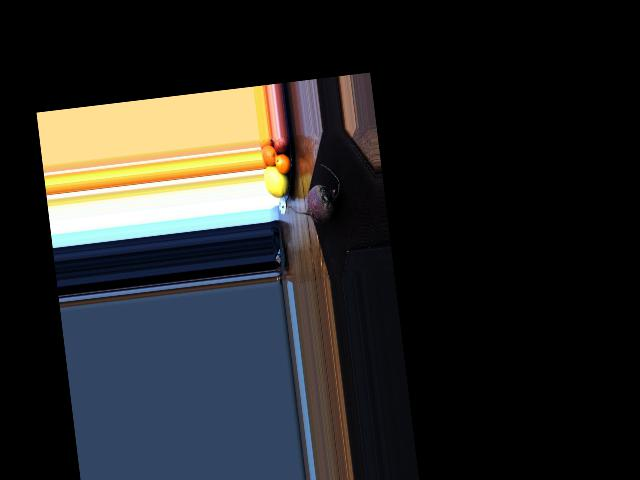beet: (286, 162, 344, 226)
